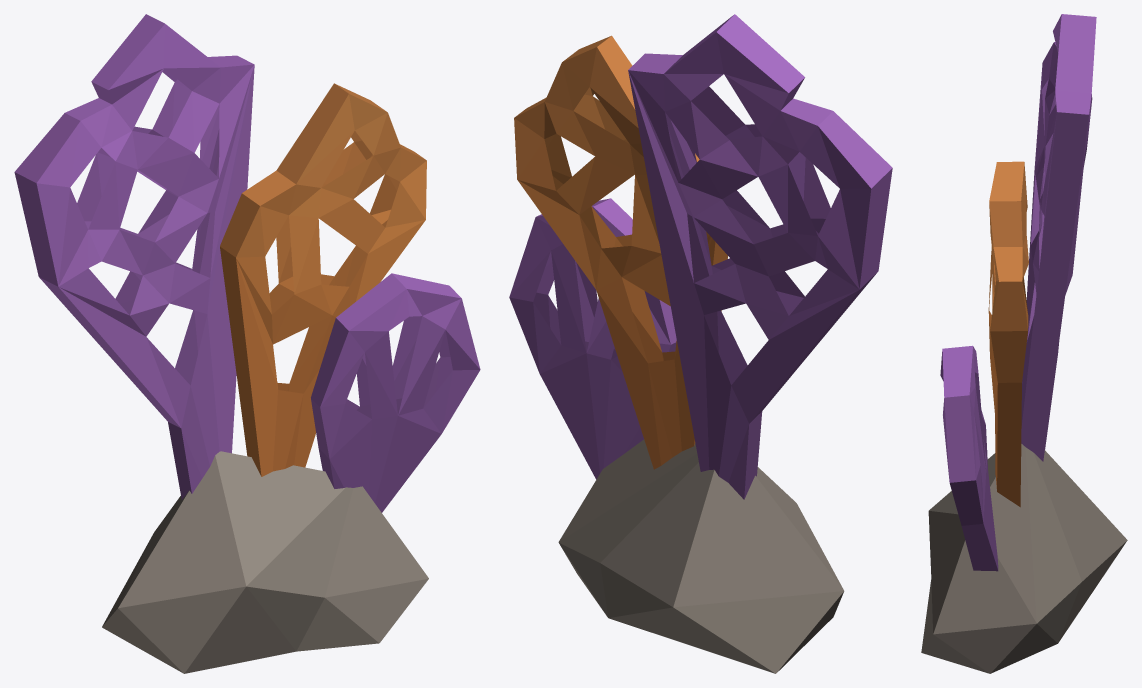
The model's file is coral_fan.glb.
3 views of the same model, side by side, from view 1: azimuth 30°, elevation 25°; view 2: azimuth 150°, elevation 25°; view 3: azimuth 270°, elevation 25° (orthographic). The views are drawn at different scales.
Parts seen in each view (by area): view 1: coral_fan; view 2: coral_fan; view 3: coral_fan.
Boxes of the visible parts, x1,y1,x2,y2 form: coral_fan: (14, 14, 480, 673); coral_fan: (509, 14, 892, 673); coral_fan: (921, 14, 1127, 673).
Bounding box in the file's own units: 0.6922 × 1 × 0.3263.
